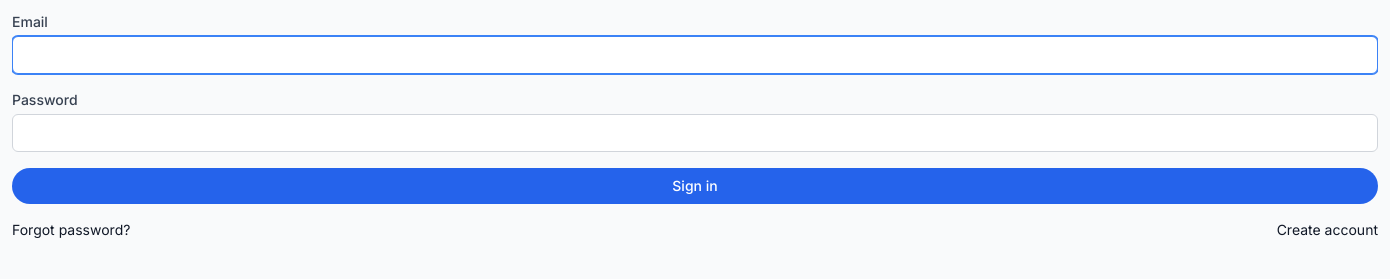
Test: LoginForm › renders field errors from the validation envelope
The image size is (1390, 279).
Type "ada@example.com" into the field labelled "Email".
click(695, 55); type("ada@example.com")  # box [12,36,1378,74]
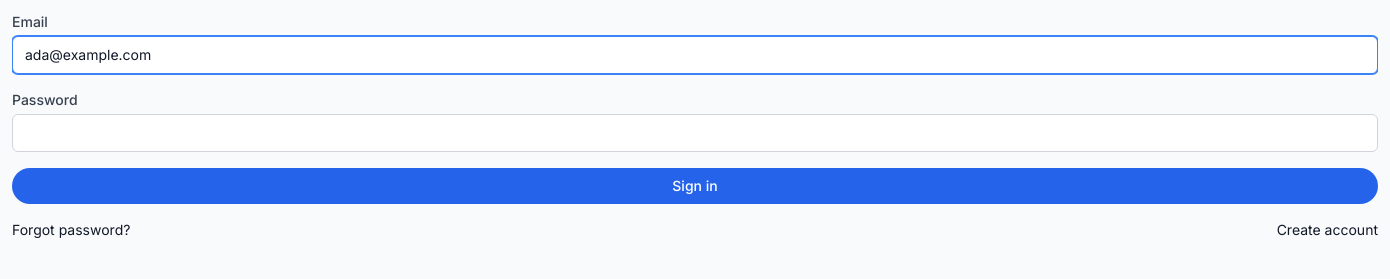
Type "correct-horse-1!" into the password field labelled "Password".
click(695, 133); type("correct-horse-1!")  # box [12,114,1378,152]
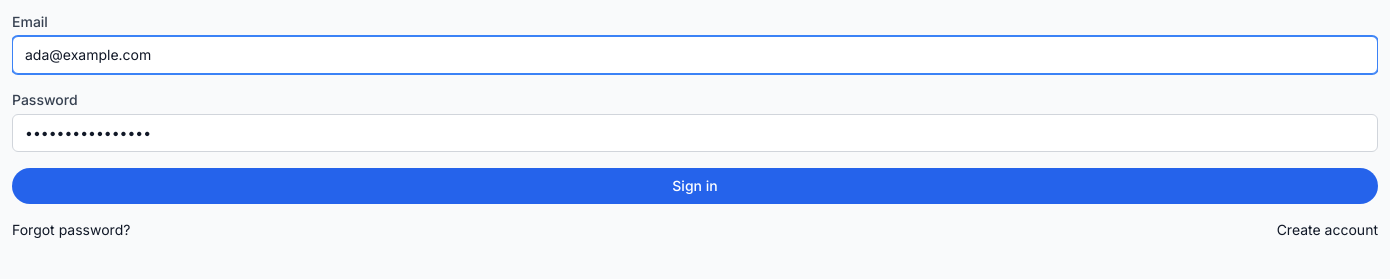
Click the button "Sign in".
click(695, 186)  # box [12,168,1378,204]
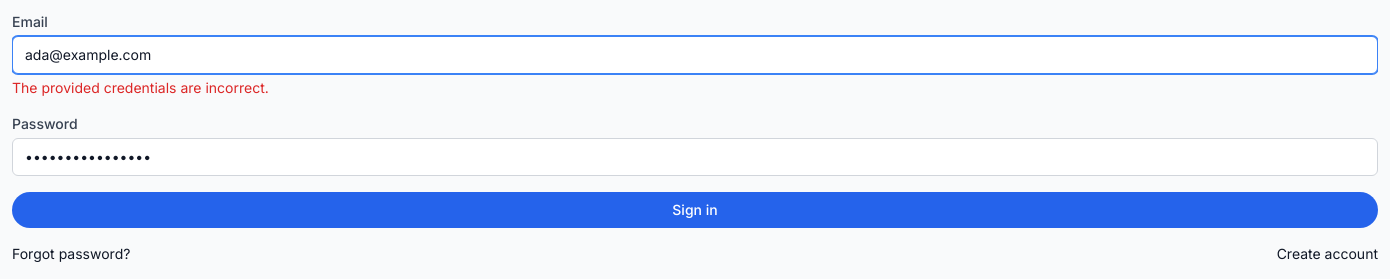
Result: the text "The provided credentials are incorrect." is shown at [12,79,269,96]
